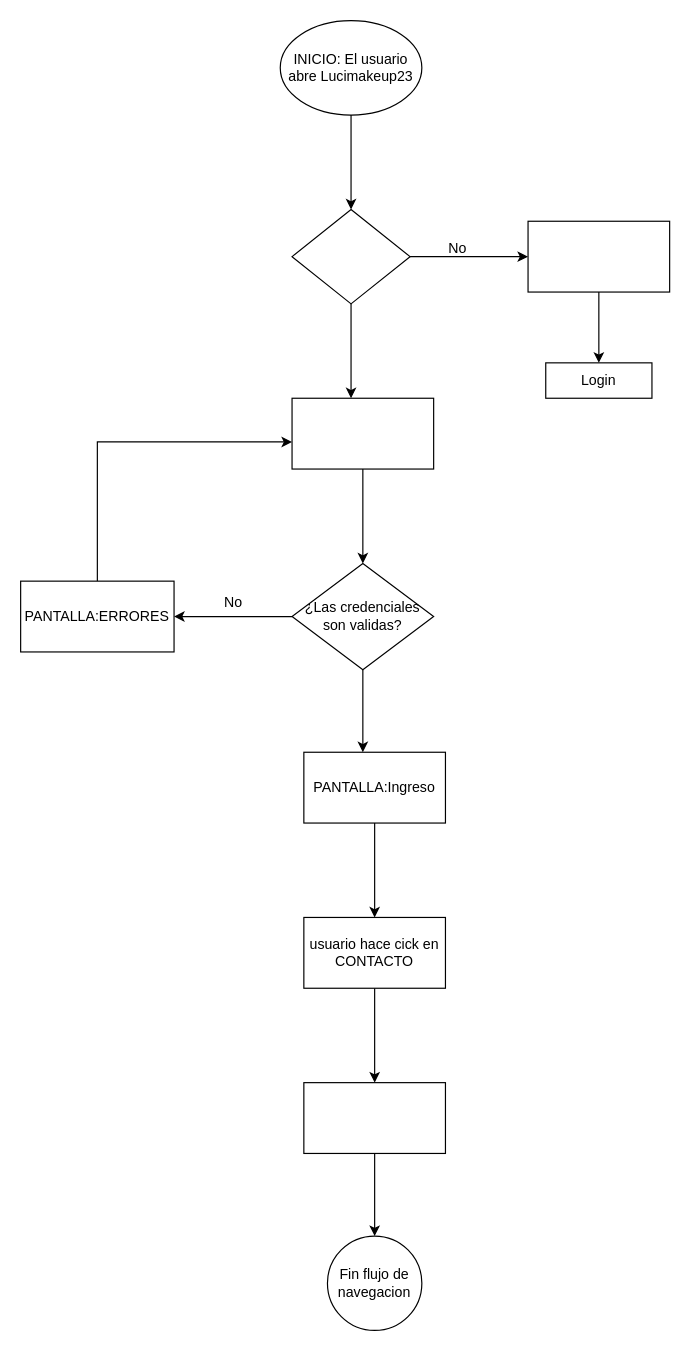
Some shapes in this 690 by 1351 pixel diagram are drawn without their labels. Here are the shapes that lost their labels. From the top down, the centre of each, then its label:
At pixel 350 256: "¿Tiene una cuenta activa?".
At pixel 598 256: "PANTALLA:Registro".
At pixel 362 433: "PANTALLA:Login".
At pixel 374 1117: "PANTALLA:Contacto".
